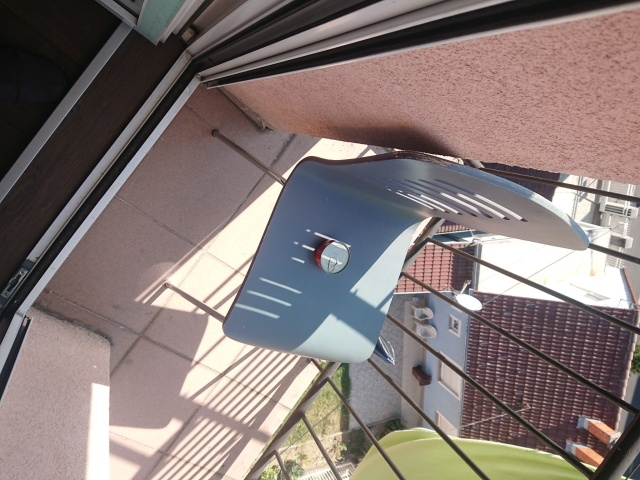Gavrilovic Pork Liver Pate 100g: (311, 237, 352, 276)
